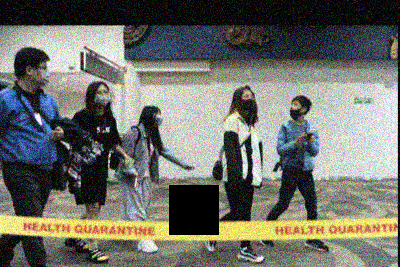mask_weared_incorrect: (289, 101, 302, 119)
with_mask: (30, 61, 49, 88), (93, 88, 111, 108), (240, 93, 255, 112), (153, 110, 163, 129)
